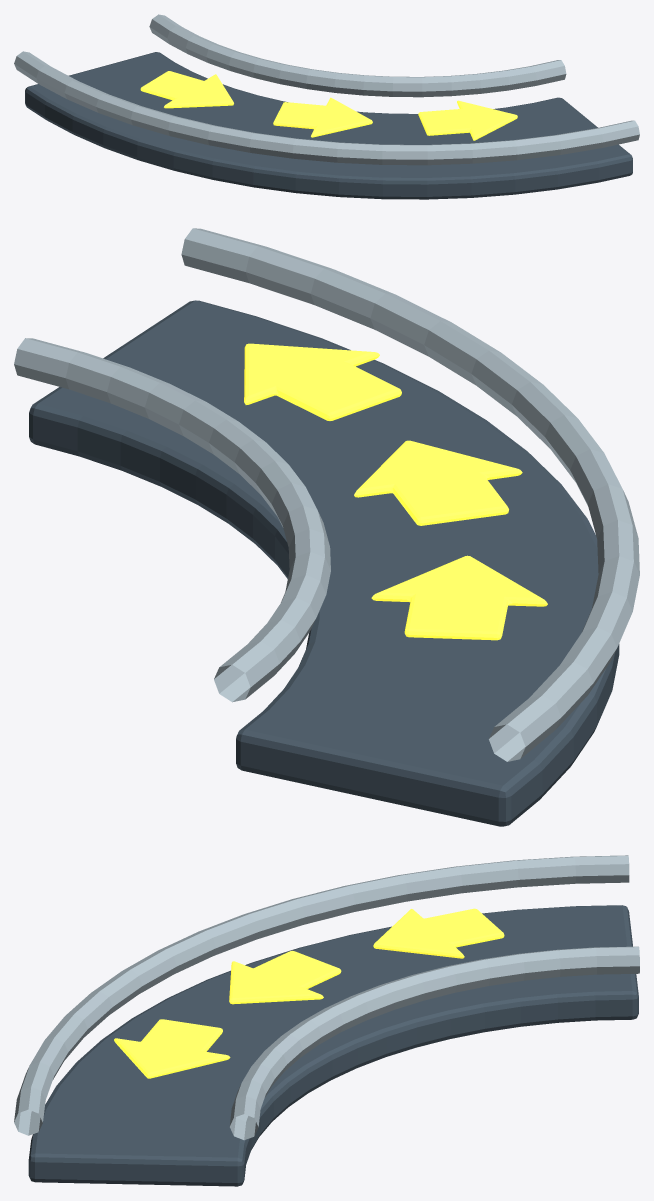
Rendered from PR3D_Rail_Curve90_Left.fbx.
3 views of the same model, one above another, from view 1: azimuth 30°, elevation 25°; view 2: azimuth 150°, elevation 25°; view 3: azimuth 270°, elevation 25° (orthographic). The views are drawn at different scales.
Parts seen in each view (by area): view 1: Visual_CurveDeck_Left, Visual_CurveRail_Left_-1, Visual_CurveRail_Left_+1, Arrow_Curve_Left_12, Arrow_Curve_Left_04, Arrow_Curve_Left_08; view 2: Visual_CurveDeck_Left, Visual_CurveRail_Left_-1, Visual_CurveRail_Left_+1, Arrow_Curve_Left_12, Arrow_Curve_Left_08, Arrow_Curve_Left_04; view 3: Visual_CurveDeck_Left, Visual_CurveRail_Left_-1, Visual_CurveRail_Left_+1, Arrow_Curve_Left_04, Arrow_Curve_Left_08, Arrow_Curve_Left_12.
Part boxes in pixels (x1=…): Visual_CurveDeck_Left: x1=25, y1=52, x2=632, y2=199; Visual_CurveRail_Left_-1: x1=14, y1=51, x2=639, y2=165; Visual_CurveRail_Left_+1: x1=149, y1=14, x2=566, y2=97; Arrow_Curve_Left_12: x1=418, y1=100, x2=517, y2=140; Arrow_Curve_Left_04: x1=140, y1=71, x2=233, y2=108; Arrow_Curve_Left_08: x1=273, y1=97, x2=372, y2=137; Visual_CurveDeck_Left: x1=29, y1=300, x2=619, y2=826; Visual_CurveRail_Left_-1: x1=181, y1=228, x2=639, y2=761; Visual_CurveRail_Left_+1: x1=14, y1=338, x2=330, y2=702; Arrow_Curve_Left_12: x1=244, y1=343, x2=401, y2=420; Arrow_Curve_Left_08: x1=354, y1=440, x2=522, y2=525; Arrow_Curve_Left_04: x1=371, y1=555, x2=547, y2=640; Visual_CurveDeck_Left: x1=28, y1=905, x2=638, y2=1186; Visual_CurveRail_Left_-1: x1=14, y1=855, x2=629, y2=1135; Visual_CurveRail_Left_+1: x1=229, y1=946, x2=639, y2=1140; Arrow_Curve_Left_04: x1=373, y1=908, x2=504, y2=958; Arrow_Curve_Left_08: x1=229, y1=950, x2=341, y2=1004; Arrow_Curve_Left_12: x1=114, y1=1019, x2=230, y2=1078.
Size of the model in its own units: 2.38 by 0.315 by 2.38.
